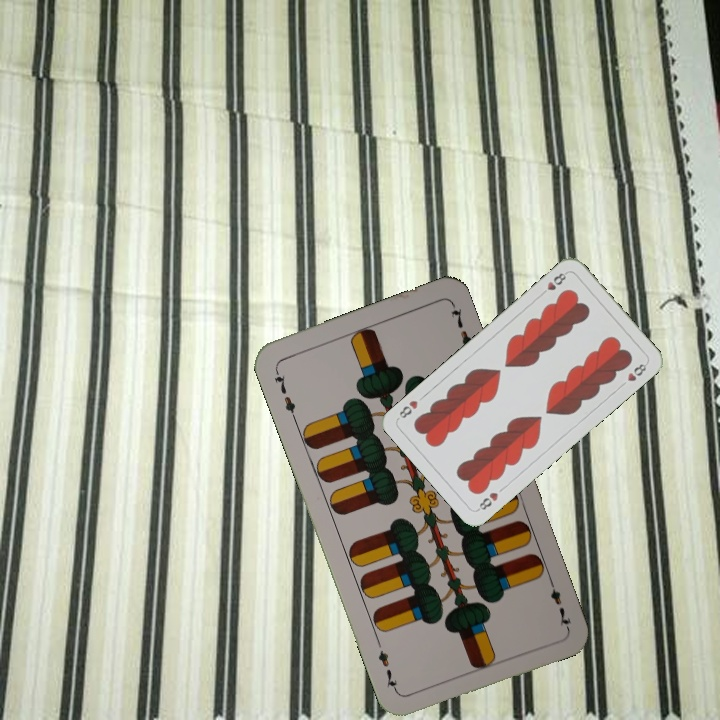E7: (544, 573, 574, 630), (270, 365, 299, 422)
H8: (536, 268, 570, 299), (473, 488, 501, 513)
